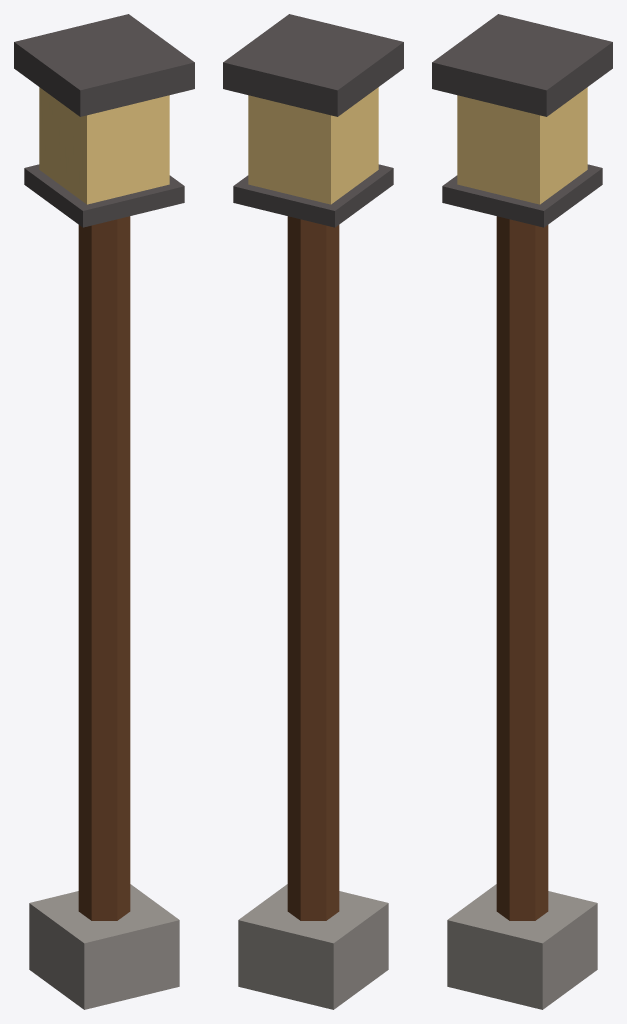
The model's file is lamp_post.glb.
The picture shows the model from 3 angles, left to right: view 1: azimuth 30°, elevation 25°; view 2: azimuth 150°, elevation 25°; view 3: azimuth 330°, elevation 25°; orthographic projection.
Parts seen in each view (by area): view 1: Pole-col, LampGlass; view 2: Pole-col, LampGlass; view 3: Pole-col, LampGlass.
Part boxes in pixels (x1=…): Pole-col: x1=14, y1=14, x2=194, y2=1009; LampGlass: x1=39, y1=87, x2=169, y2=204; Pole-col: x1=223, y1=14, x2=403, y2=1009; LampGlass: x1=248, y1=87, x2=378, y2=204; Pole-col: x1=432, y1=14, x2=612, y2=1009; LampGlass: x1=457, y1=87, x2=587, y2=204.
Bounding box in the file's own units: 0.36 × 2.78 × 0.36.
